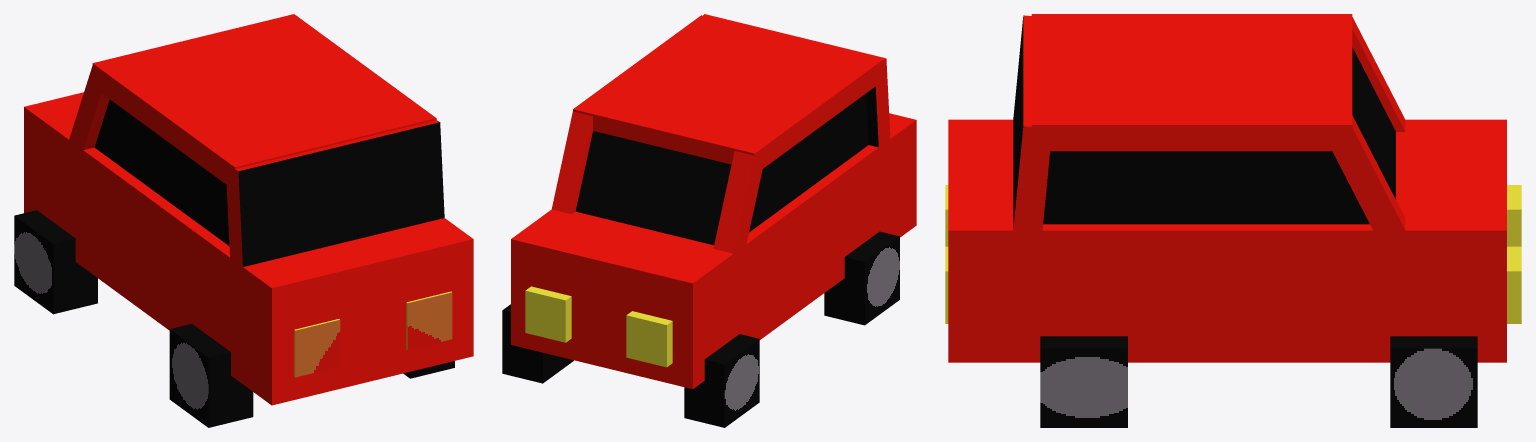
File: carroverde.fbx
3 renders of one model, left to right at view 1: azimuth 30°, elevation 25°; view 2: azimuth 150°, elevation 25°; view 3: azimuth 270°, elevation 25°, orthographic. The views are drawn at different scales.
Parts seen in each view (by area): view 1: cube_1, cube_9_1, cube_10_1, cube_11_1, cube_2_1, cube_1_2, cube_6_3, cube_5_3, cube_8_1, cube_13_1; view 2: cube_1, cube_9_1, cube_15_1, cube_11_1, cube_1_2, cube_2_1, cube_8_1, cube_7_1, cube_5_1, cube_6_1, cube_10_1, cube_4_1; view 3: cube_1, cube_9_1, cube_12_1, cube_3_1, cube_4_1, cube_14_1, cube_10_1, cube_7_1, cube_15_1, cube_8_1, cube_6_1, cube_5_1.
Boxes of the visible parts, bbox=[...] form: cube_1: bbox=[24, 92, 473, 405]; cube_9_1: bbox=[92, 14, 436, 189]; cube_10_1: bbox=[225, 120, 444, 291]; cube_11_1: bbox=[100, 99, 228, 242]; cube_2_1: bbox=[169, 324, 253, 427]; cube_1_2: bbox=[14, 210, 97, 314]; cube_6_3: bbox=[406, 291, 452, 349]; cube_5_3: bbox=[294, 319, 340, 377]; cube_8_1: bbox=[65, 65, 109, 168]; cube_13_1: bbox=[94, 131, 229, 245]; cube_1: bbox=[511, 113, 916, 389]; cube_9_1: bbox=[573, 15, 882, 168]; cube_15_1: bbox=[575, 131, 731, 245]; cube_11_1: bbox=[749, 93, 868, 232]; cube_1_2: bbox=[684, 334, 759, 427]; cube_2_1: bbox=[824, 231, 899, 325]; cube_8_1: bbox=[713, 151, 765, 269]; cube_7_1: bbox=[552, 111, 592, 214]; cube_5_1: bbox=[626, 311, 672, 367]; cube_6_1: bbox=[525, 286, 571, 342]; cube_10_1: bbox=[703, 14, 891, 169]; cube_4_1: bbox=[502, 304, 573, 383]; cube_1: bbox=[948, 119, 1506, 362]; cube_9_1: bbox=[1031, 14, 1352, 151]; cube_12_1: bbox=[1043, 151, 1360, 224]; cube_3_1: bbox=[1040, 336, 1127, 427]; cube_4_1: bbox=[1390, 336, 1477, 427]; cube_14_1: bbox=[1069, 198, 1369, 224]; cube_10_1: bbox=[1010, 15, 1049, 259]; cube_7_1: bbox=[1326, 115, 1413, 257]; cube_15_1: bbox=[1352, 47, 1395, 199]; cube_8_1: bbox=[1352, 17, 1405, 131]; cube_6_1: bbox=[1507, 246, 1521, 323]; cube_5_1: bbox=[1507, 185, 1521, 246].
Size of the model in its own units: 2707 by 2707 by 4861.
6 materials, 6 textured.
